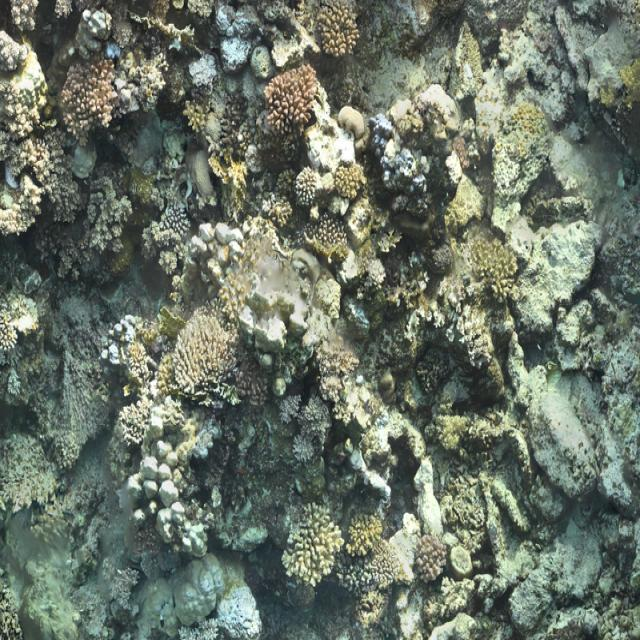Bleached Coral: (120, 453, 200, 561), (183, 0, 252, 97), (191, 560, 269, 640), (183, 215, 251, 292), (296, 111, 364, 187)
Healthy Coral: (166, 301, 256, 414), (284, 495, 355, 608), (51, 49, 137, 135), (495, 101, 555, 184), (259, 58, 322, 136), (309, 0, 372, 61), (469, 244, 527, 303), (416, 530, 451, 585), (315, 216, 348, 271)
